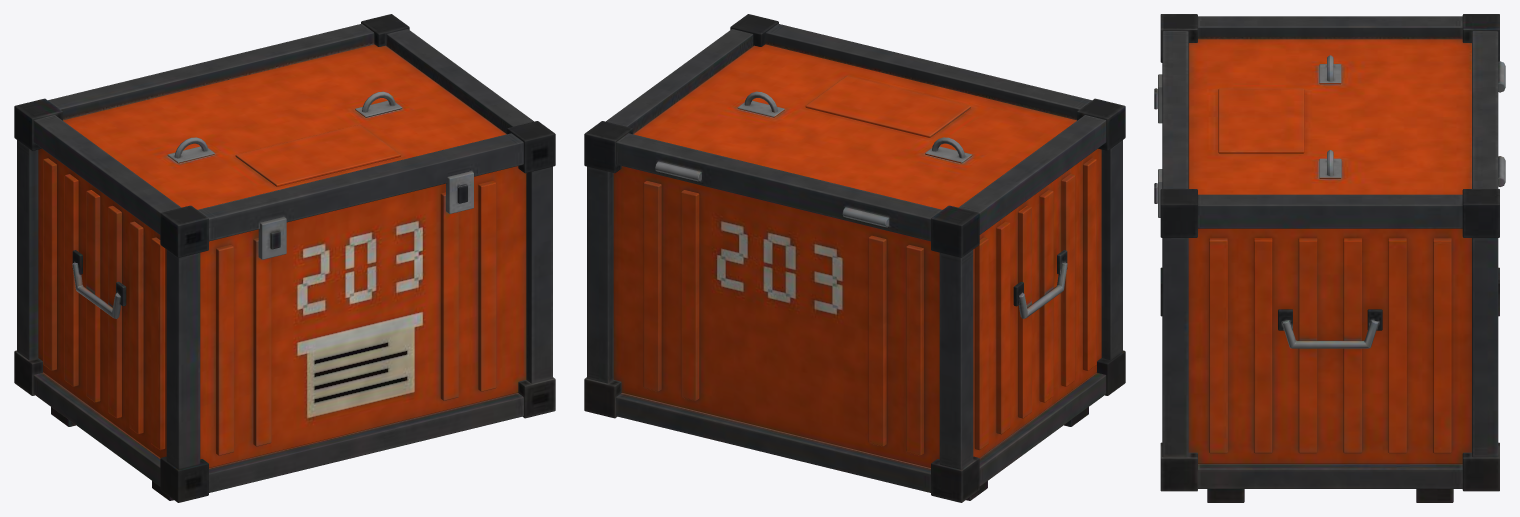
The model's file is crate_c.glb.
3 renders of one model, left to right at view 1: azimuth 30°, elevation 25°; view 2: azimuth 150°, elevation 25°; view 3: azimuth 270°, elevation 25°, orthographic. The views are drawn at different scales.
Visible parts, largest first — view 1: crate_c; view 2: crate_c; view 3: crate_c.
Part boxes in pixels (x1=…): crate_c: x1=14, y1=14, x2=555, y2=502; crate_c: x1=584, y1=14, x2=1125, y2=502; crate_c: x1=1154, y1=14, x2=1505, y2=502.
Bounding box in the file's own units: 1.22 × 0.9189 × 0.942.
Materials: 1 (1 with a texture image).
